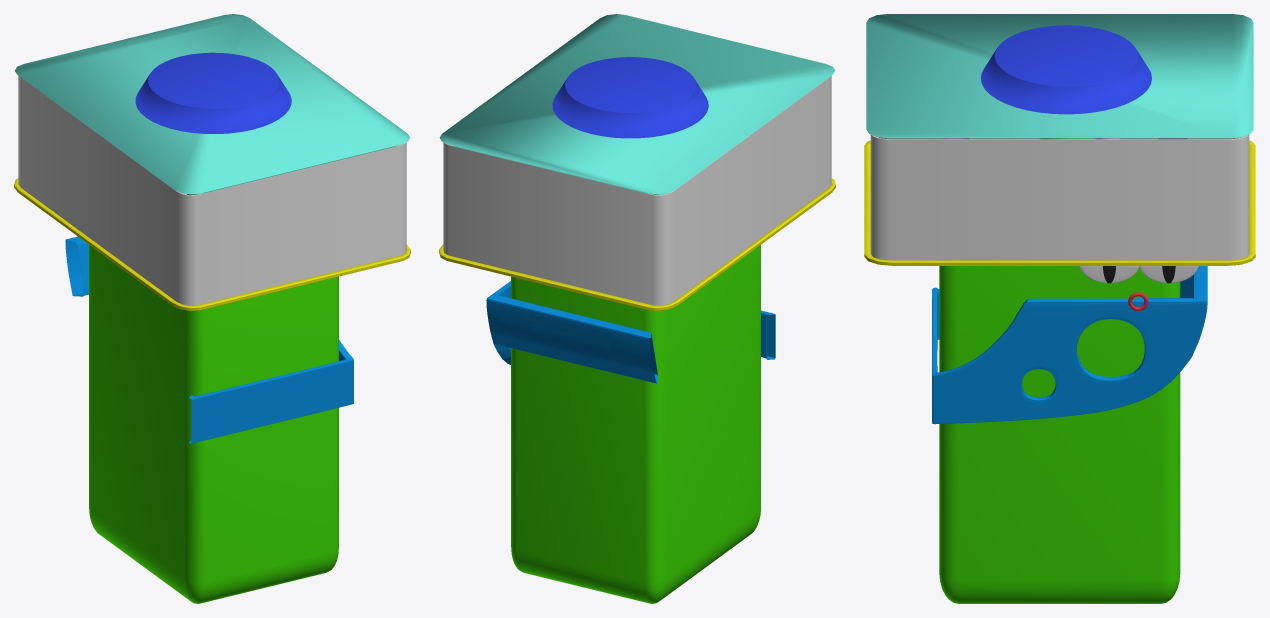
Rendered from part_2 building(3).fbx.
The picture shows the model from 3 angles, left to right: view 1: azimuth 30°, elevation 25°; view 2: azimuth 150°, elevation 25°; view 3: azimuth 270°, elevation 25°; orthographic projection. The views are drawn at different scales.
Visible parts, largest first — view 1: building_base, glass_box, glass_box_top, cap, building_skin, track; view 2: building_base, glass_box, glass_box_top, cap, building_skin, track; view 3: building_base, glass_box, glass_box_top, building_skin, cap, track, left_eye.002, left_eye.
Boxes of the visible parts, x1,y1,x2,y2 form: building_base: (89, 245, 338, 603); glass_box: (18, 76, 406, 305); glass_box_top: (15, 14, 410, 194); cap: (135, 52, 291, 133); building_skin: (65, 236, 353, 443); track: (14, 178, 410, 310); building_base: (511, 245, 760, 603); glass_box: (443, 76, 831, 305); glass_box_top: (439, 14, 835, 194); cap: (552, 57, 708, 138); building_skin: (486, 281, 775, 383); track: (439, 178, 835, 310); building_base: (939, 266, 1180, 603); glass_box: (870, 135, 1249, 260); glass_box_top: (866, 14, 1253, 138); building_skin: (932, 266, 1207, 424); cap: (980, 25, 1151, 114); track: (864, 140, 1255, 265); left_eye.002: (1139, 266, 1198, 283); left_eye: (1080, 266, 1138, 282).
Size of the model in its own units: 9126 by 17128 by 11791.
